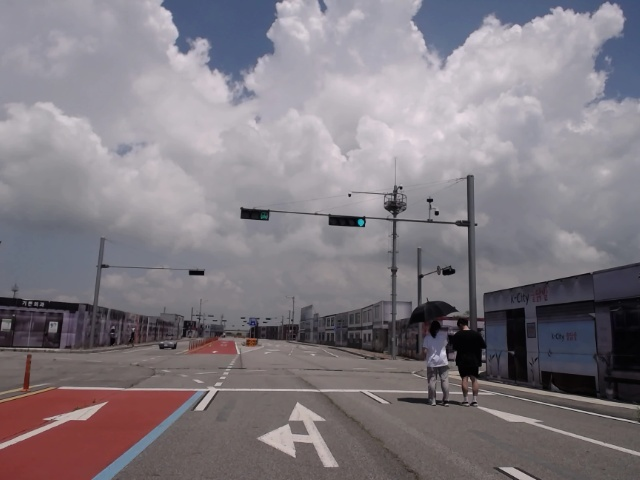straight_green_4: (328, 215, 366, 228)
